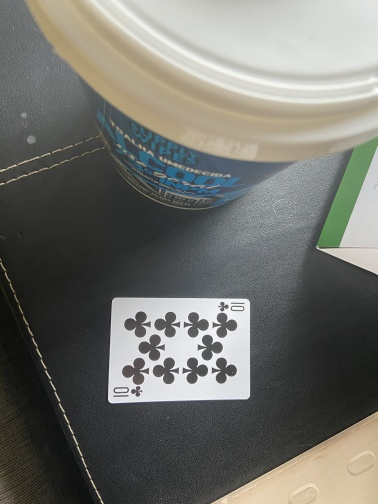ten: (106, 295, 252, 405)
